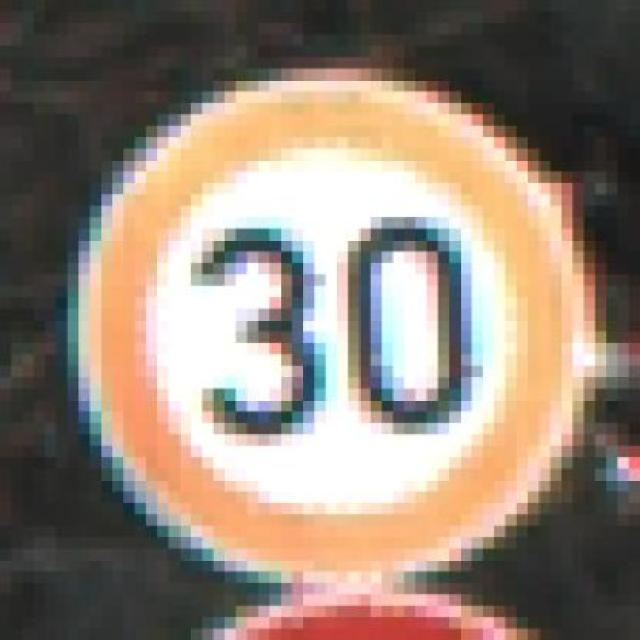Speed Limit 30 KMPh: (56, 57, 607, 606)
